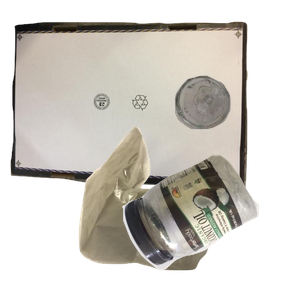cardboard: (10, 19, 250, 199)
glass: (172, 73, 300, 195)
plastic: (120, 152, 300, 300)
trash: (76, 124, 287, 300)
